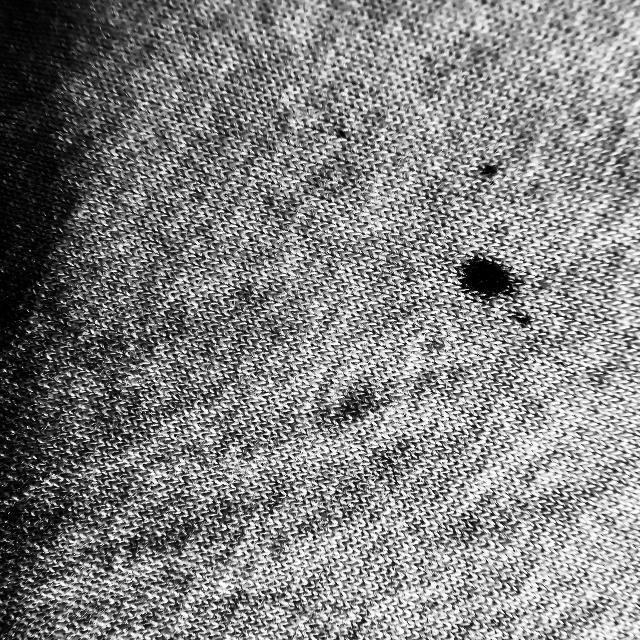Color_defect: (446, 248, 525, 306)
